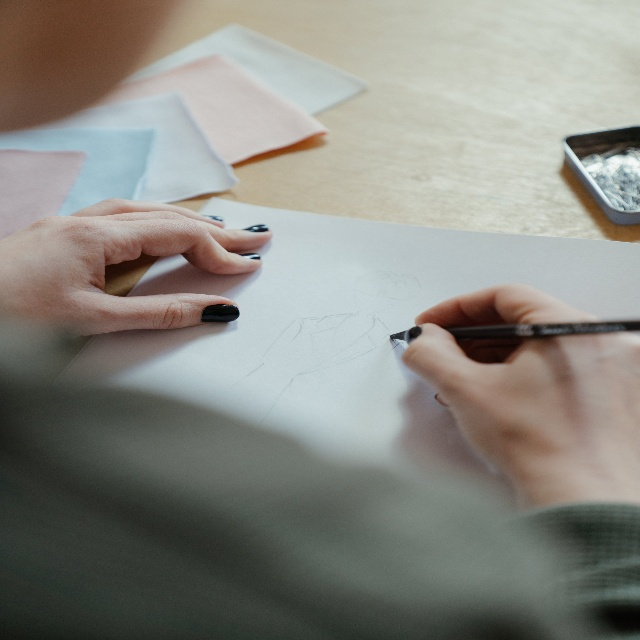Sin_guantes: (401, 282, 640, 486), (0, 194, 273, 346)
